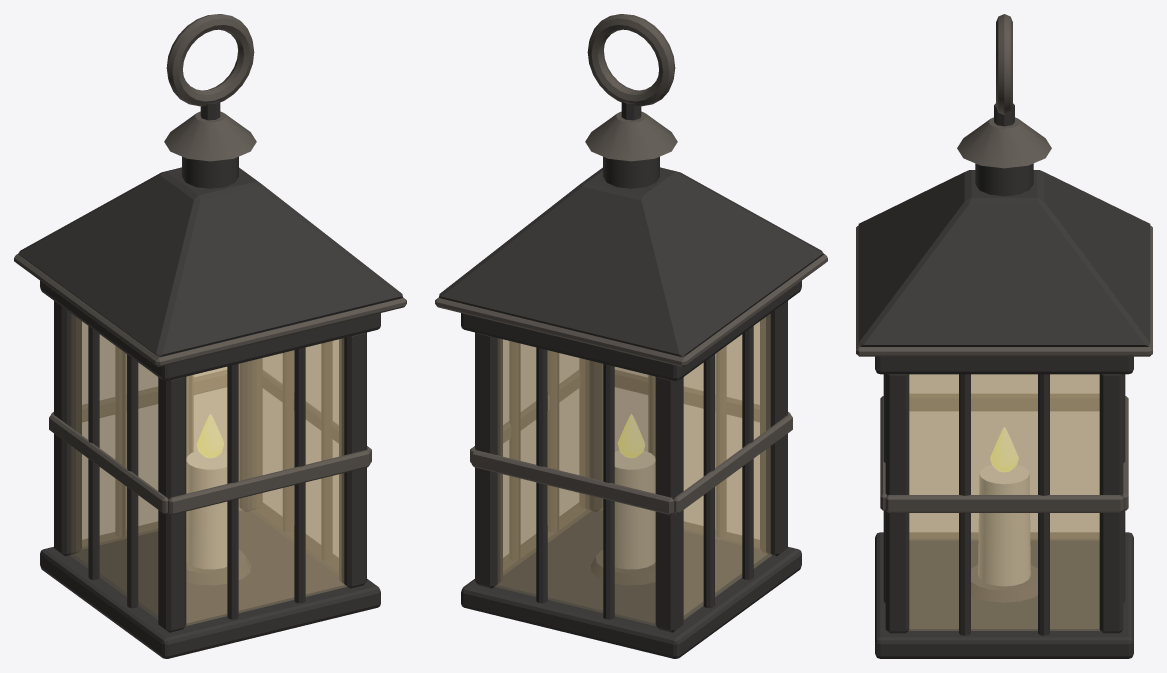
The model's file is iron-lantern_final.glb.
The picture shows the model from 3 angles, left to right: view 1: azimuth 30°, elevation 25°; view 2: azimuth 150°, elevation 25°; view 3: azimuth 270°, elevation 25°; orthographic projection. The views are drawn at different scales.
Parts seen in each view (by area): view 1: SM_IronLantern_Roof, SM_IronLantern_Glass_01, SM_IronLantern_BasePlate, SM_IronLantern_Glass_04, SM_IronLantern_Glass_02, SM_IronLantern_Glass_03, SM_IronLantern_Post_01, SM_IronLantern_Post_02, SM_IronLantern_Post_04, SM_IronLantern_TopFrame, SM_IronLantern_RoofLip, SM_IronLantern_Candle (+17 smaller); view 2: SM_IronLantern_Roof, SM_IronLantern_Glass_03, SM_IronLantern_BasePlate, SM_IronLantern_Glass_04, SM_IronLantern_Glass_02, SM_IronLantern_Glass_01, SM_IronLantern_Post_04, SM_IronLantern_Post_03, SM_IronLantern_Post_01, SM_IronLantern_TopFrame, SM_IronLantern_RoofLip, SM_IronLantern_Candle (+17 smaller); view 3: SM_IronLantern_Roof, SM_IronLantern_Glass_02, SM_IronLantern_BasePlate, SM_IronLantern_Glass_04, SM_IronLantern_Post_02, SM_IronLantern_Post_03, SM_IronLantern_Candle, SM_IronLantern_TopFrame, SM_IronLantern_Band_02, SM_IronLantern_RoofLip, SM_IronLantern_ChimneyCap, SM_IronLantern_Bar_03 (+10 smaller).
Boxes of the visible parts, box(x1,y1,x2,y2) form: SM_IronLantern_Roof: box(18, 167, 402, 357); SM_IronLantern_Glass_01: box(186, 338, 346, 625); SM_IronLantern_BasePlate: box(40, 503, 380, 658); SM_IronLantern_Glass_04: box(70, 314, 158, 619); SM_IronLantern_Glass_02: box(255, 340, 338, 571); SM_IronLantern_Glass_03: box(82, 322, 240, 547); SM_IronLantern_Post_01: box(158, 376, 186, 632); SM_IronLantern_Post_02: box(339, 332, 366, 588); SM_IronLantern_Post_04: box(54, 301, 81, 556); SM_IronLantern_TopFrame: box(40, 280, 380, 380); SM_IronLantern_RoofLip: box(14, 254, 406, 367); SM_IronLantern_Candle: box(186, 451, 227, 569); SM_IronLantern_Roof: box(439, 167, 823, 357); SM_IronLantern_Glass_03: box(495, 338, 655, 625); SM_IronLantern_BasePlate: box(461, 503, 801, 658); SM_IronLantern_Glass_04: box(683, 314, 771, 619); SM_IronLantern_Glass_02: box(503, 340, 586, 571); SM_IronLantern_Glass_01: box(601, 322, 759, 547); SM_IronLantern_Post_04: box(655, 376, 683, 632); SM_IronLantern_Post_03: box(475, 332, 502, 588); SM_IronLantern_Post_01: box(760, 301, 787, 556); SM_IronLantern_TopFrame: box(461, 280, 801, 380); SM_IronLantern_RoofLip: box(435, 254, 827, 367); SM_IronLantern_Candle: box(614, 451, 655, 569); SM_IronLantern_Roof: box(858, 170, 1150, 346); SM_IronLantern_Glass_02: box(909, 374, 1099, 630); SM_IronLantern_BasePlate: box(875, 532, 1133, 658); SM_IronLantern_Glass_04: box(909, 374, 1099, 538); SM_IronLantern_Post_02: box(885, 374, 909, 633); SM_IronLantern_Post_03: box(1099, 374, 1123, 633); SM_IronLantern_Candle: box(978, 465, 1030, 586); SM_IronLantern_TopFrame: box(875, 356, 1133, 374); SM_IronLantern_Band_02: box(885, 495, 1123, 512); SM_IronLantern_RoofLip: box(856, 225, 1152, 356); SM_IronLantern_ChimneyCap: box(957, 117, 1051, 168); SM_IronLantern_Bar_03: box(959, 374, 970, 635).
Bounding box in the file's own units: 0.225 × 0.5034 × 0.225.
